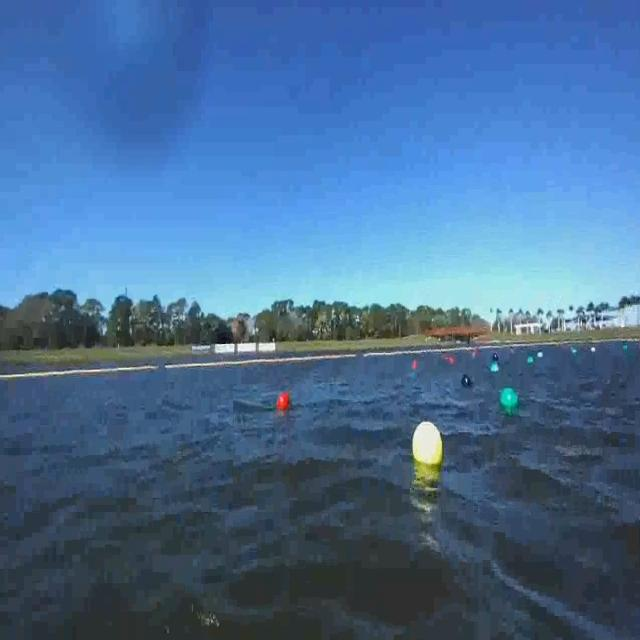black-buoy: (464, 373, 475, 388), (461, 376, 472, 389)
green-buoy: (500, 386, 517, 409)
red-buoy: (278, 392, 290, 409)
yellow-buoy: (413, 422, 444, 468)
